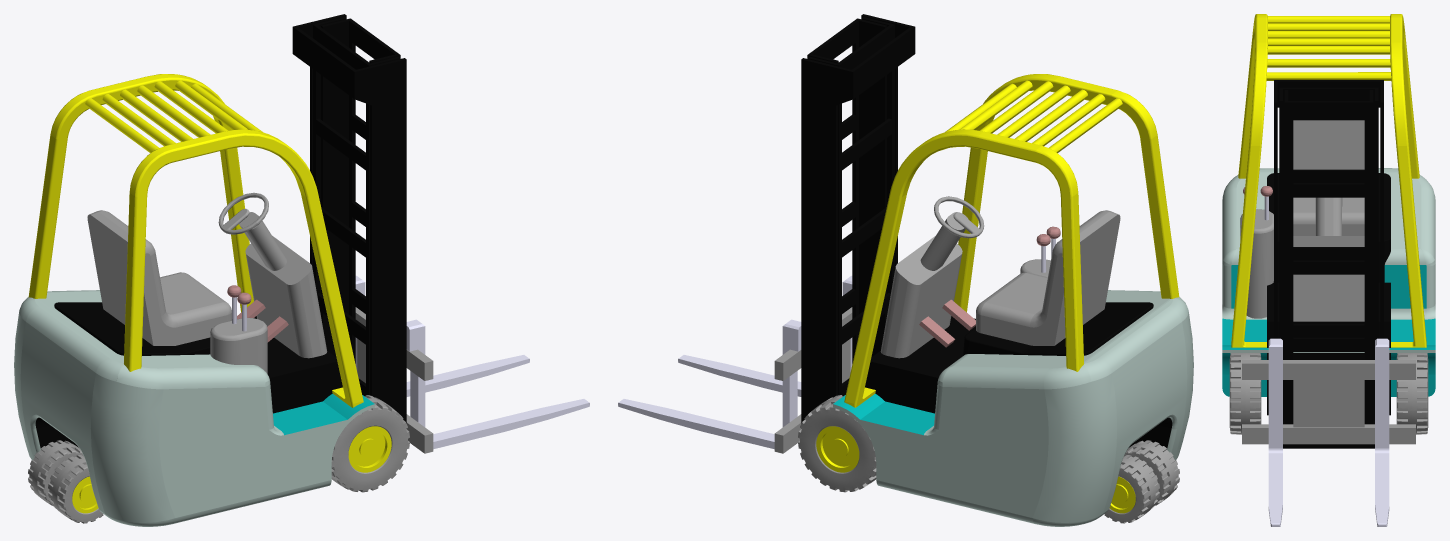
3 renders of one model, left to right at view 1: azimuth 30°, elevation 25°; view 2: azimuth 150°, elevation 25°; view 3: azimuth 270°, elevation 25°, orthographic. The views are drawn at different scales.
Visible parts, largest first — view 1: Grundkorper, Schutzbuegel, Hubmast_1, Hubmast_3, Hubmast_2, Vorderrad.001, Gabelzinken, Hinterrad.001, Gabeltrager, Gabelzinken.001, Hinterrad; view 2: Grundkorper, Schutzbuegel, Hubmast_1, Hubmast_3, Hubmast_2, Vorderrad, Gabelzinken.001, Hinterrad, Gabeltrager, Gabelzinken, Hinterrad.001; view 3: Grundkorper, Schutzbuegel, Hubmast_3, Gabeltrager, Hubmast_2, Hubmast_1, Gabelzinken, Gabelzinken.001, Vorderrad, Vorderrad.001.
Part boxes in pixels (x1,y1,x2,y2): Grundkorper: (14, 192, 374, 526); Schutzbuegel: (28, 74, 363, 407); Hubmast_1: (292, 14, 406, 423); Hubmast_3: (321, 18, 400, 396); Hubmast_2: (313, 17, 400, 395); Vorderrad.001: (331, 395, 409, 492); Gabelzinken: (406, 319, 589, 449); Hinterrad.001: (48, 455, 103, 523); Gabeltrager: (355, 307, 433, 453); Gabelzinken.001: (355, 275, 529, 396); Hinterrad: (28, 440, 83, 506); Grundkorper: (833, 196, 1193, 526); Schutzbuegel: (844, 74, 1179, 407); Hubmast_1: (801, 14, 915, 423); Hubmast_3: (807, 18, 886, 396); Hubmast_2: (807, 17, 894, 395); Vorderrad: (798, 395, 876, 492); Gabelzinken.001: (618, 319, 801, 449); Hinterrad: (1104, 455, 1159, 523); Gabeltrager: (774, 307, 852, 453); Gabelzinken: (678, 275, 852, 396); Hinterrad.001: (1124, 440, 1179, 506); Grundkorper: (1222, 120, 1435, 415); Schutzbuegel: (1231, 14, 1426, 347); Hubmast_3: (1284, 90, 1373, 424); Gabeltrager: (1242, 360, 1415, 444); Hubmast_2: (1279, 87, 1378, 424); Hubmast_1: (1274, 80, 1383, 448); Gabelzinken: (1268, 338, 1282, 526); Gabelzinken.001: (1375, 338, 1389, 526); Vorderrad: (1396, 353, 1428, 434); Vorderrad.001: (1229, 353, 1261, 434).
Bounding box in the file's own units: 2.96 × 1.2 × 2.2.
